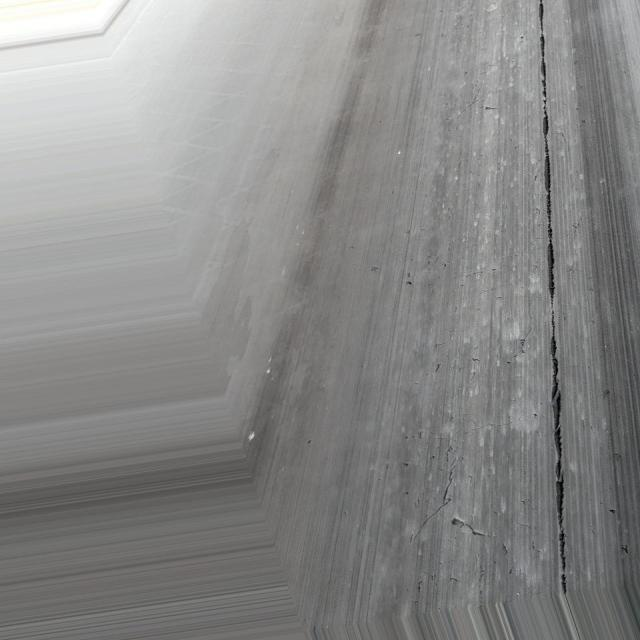Tear: (524, 5, 577, 594)
